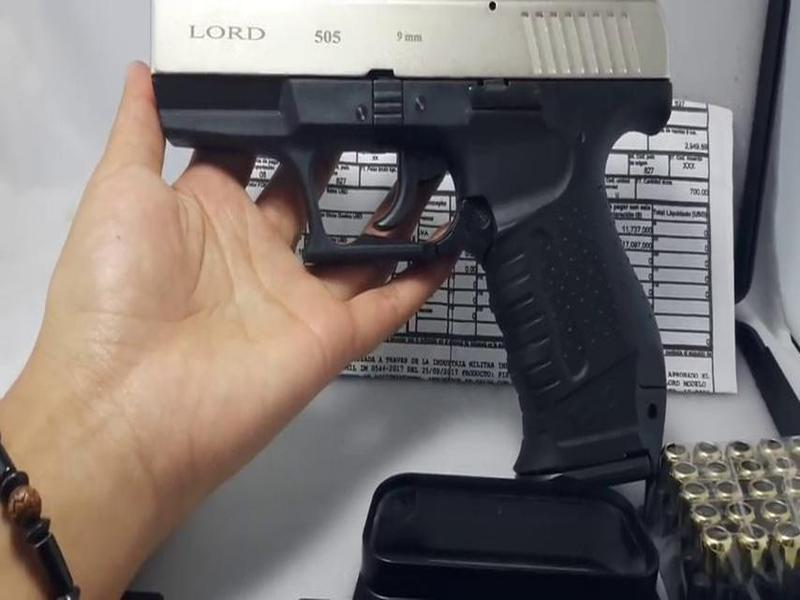Pistola: (124, 1, 722, 493)
